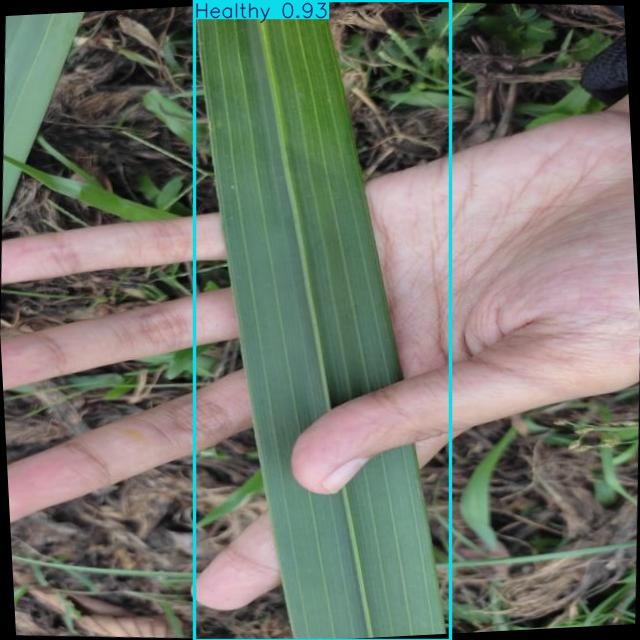Healthy: (195, 1, 450, 640)
